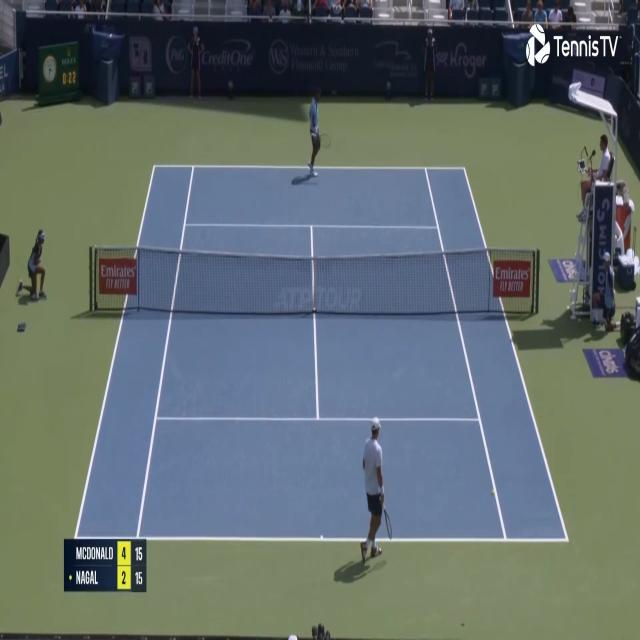tennis-player: (359, 413, 392, 568), (306, 84, 322, 180)
